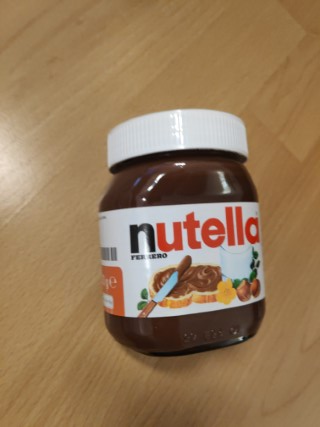nutella: (93, 105, 268, 359)
